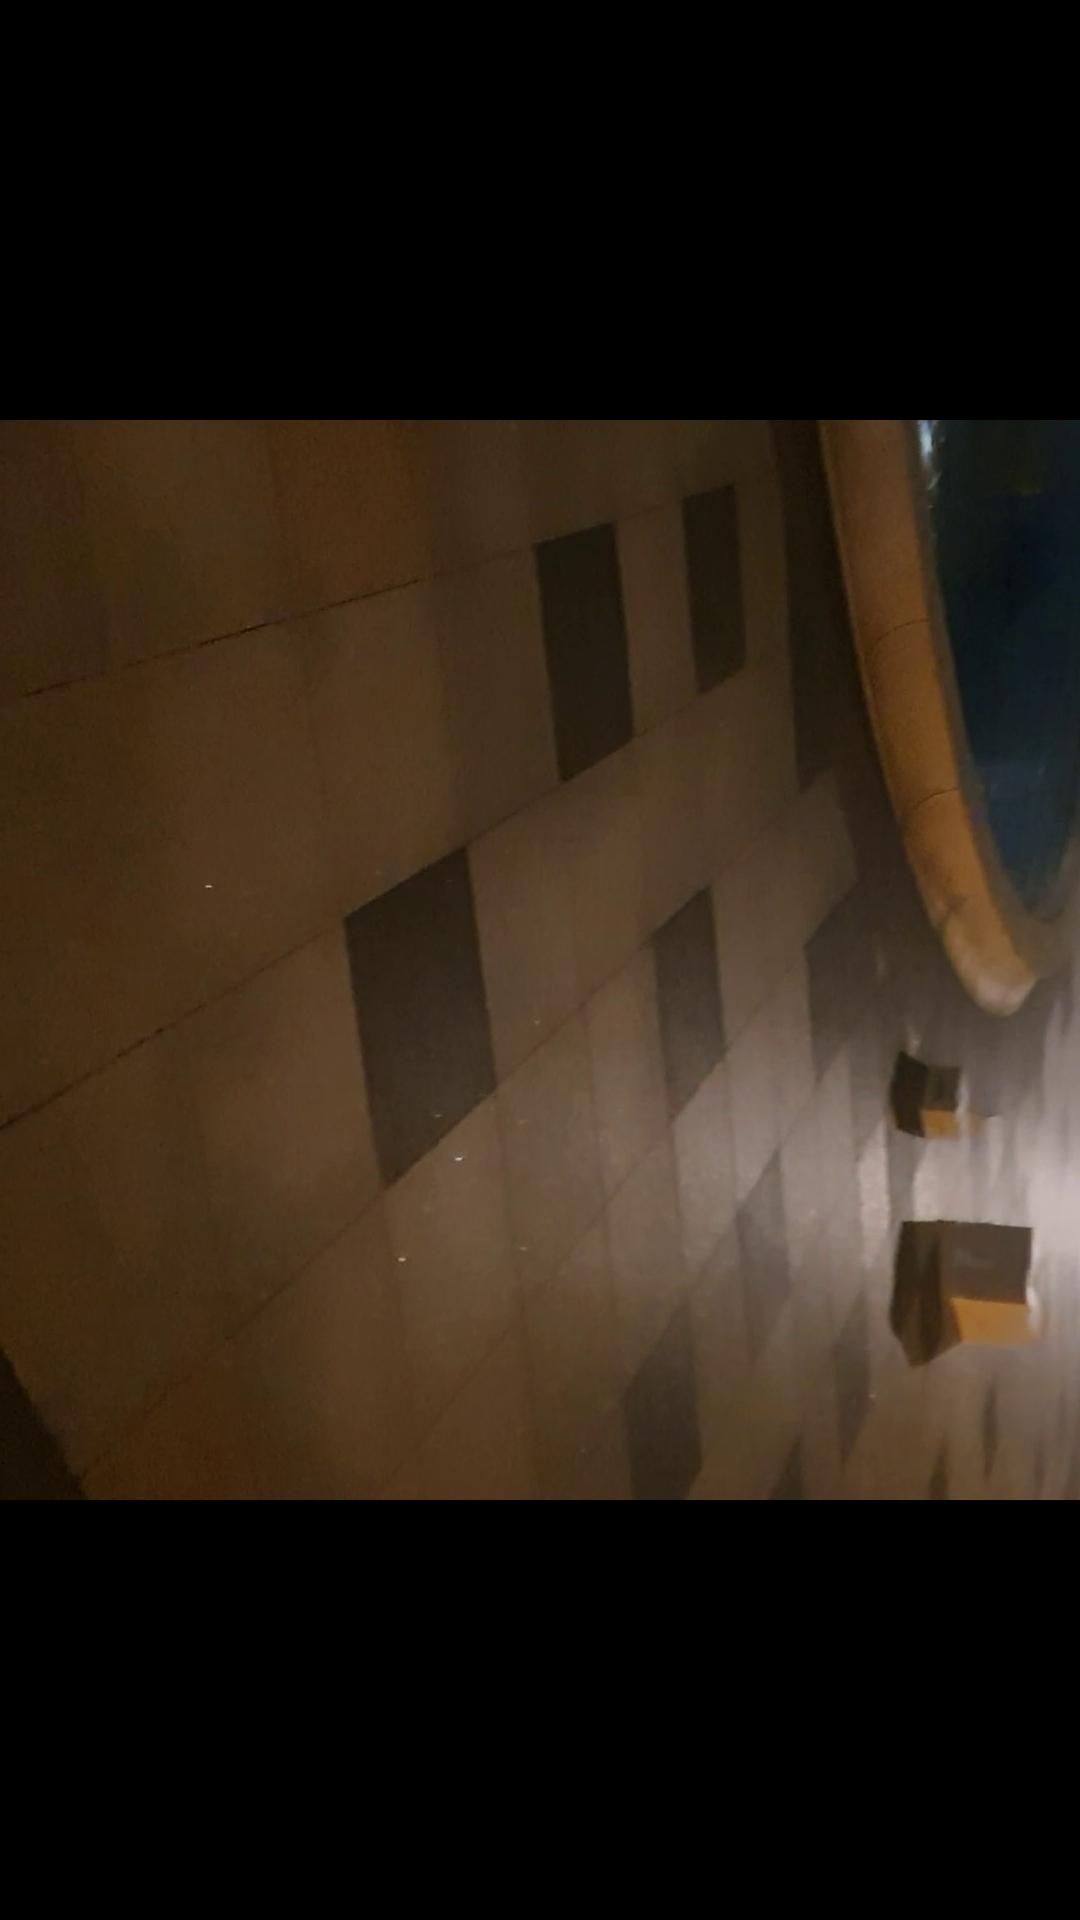Box: (934, 1213, 1055, 1346), (915, 1062, 971, 1130)
